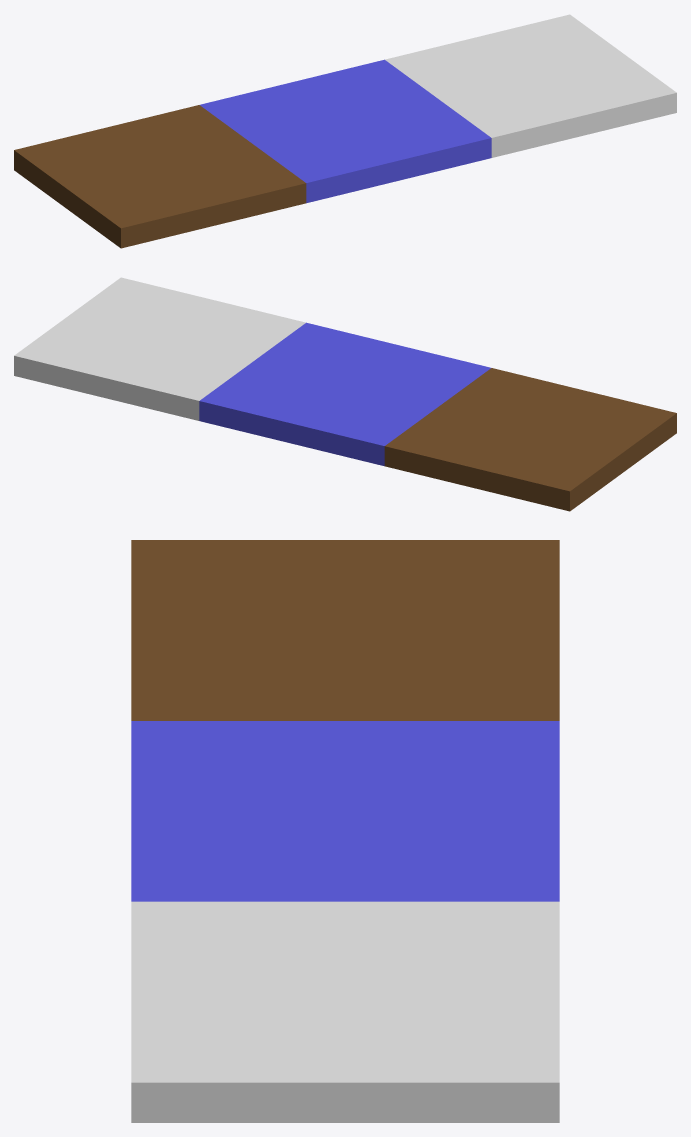
File: mara-tiles.glb
3 views of the same model, one above another, from view 1: azimuth 30°, elevation 25°; view 2: azimuth 150°, elevation 25°; view 3: azimuth 270°, elevation 25° (orthographic). The views are drawn at different scales.
Visible parts, largest first — view 1: road, snow, river; view 2: road, snow, river; view 3: snow, road, river.
Part boxes in pixels (box(x1,y1,x2,y2)): road: box(14, 105, 306, 248); snow: box(385, 14, 676, 157); river: box(200, 59, 491, 203); road: box(384, 368, 676, 511); snow: box(14, 277, 305, 420); river: box(199, 322, 490, 466); snow: box(131, 901, 559, 1122); road: box(131, 540, 559, 720); river: box(131, 721, 559, 901).
Size of the model in its own units: 6 by 0.2077 by 2.
